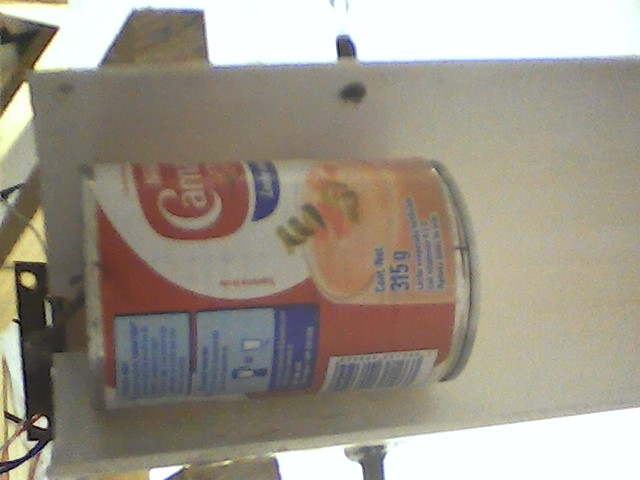lata: (70, 151, 489, 418)
